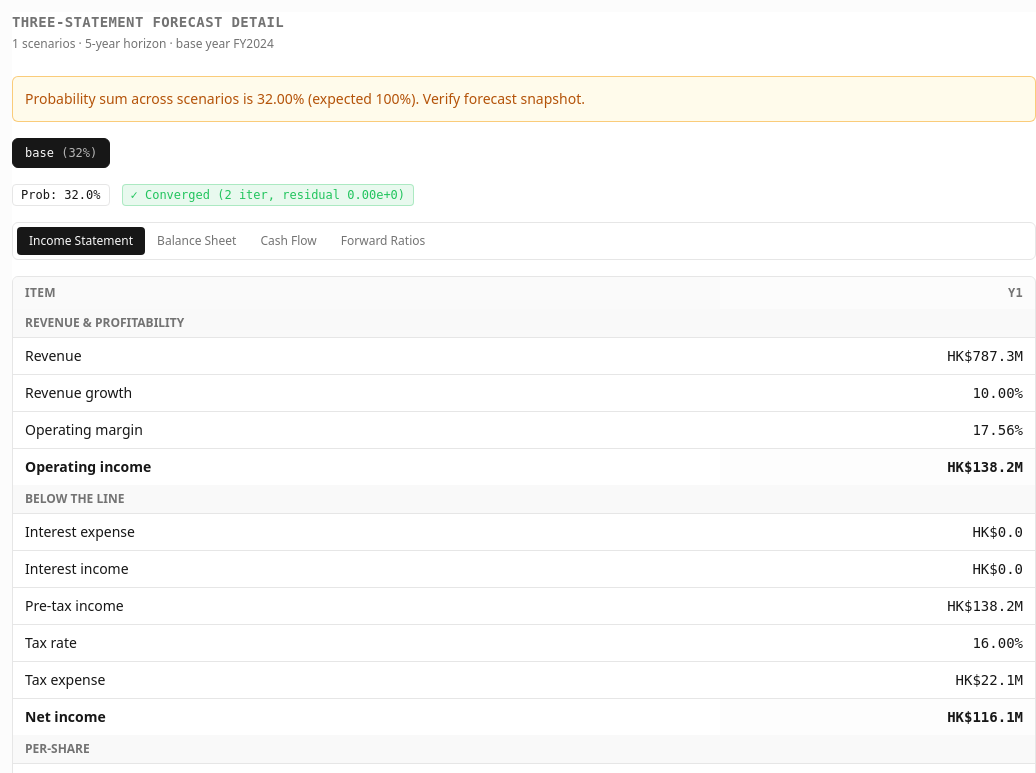
Test: ForecastDetail (Sprint 1B.2) › switches to Forward Ratios sub-tab and shows ROIC as percent
The width and height of the screenshot is (1036, 773).
What coordinates should you click on to do the following:
click the button "Forward Ratios"
I would click on:
 (383, 241)
Its box is [329, 227, 437, 255].
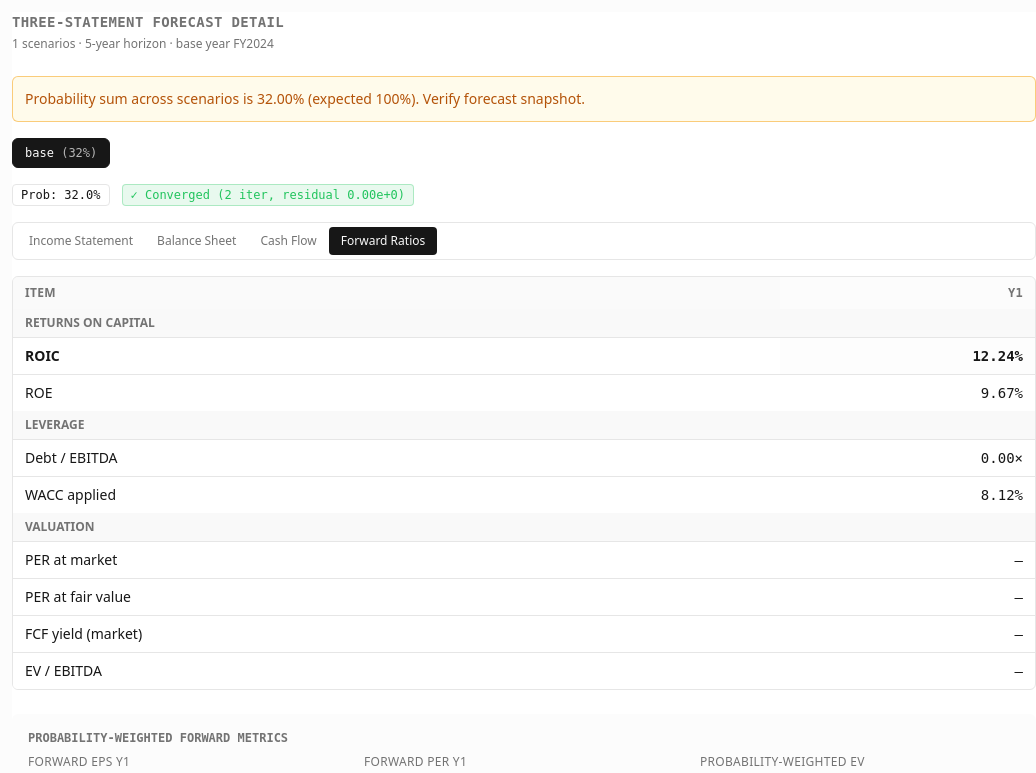
Result: the text "ROIC" is shown at [13, 338, 780, 374]
Result: the text "12.24%" is shown at [780, 338, 1035, 374]
